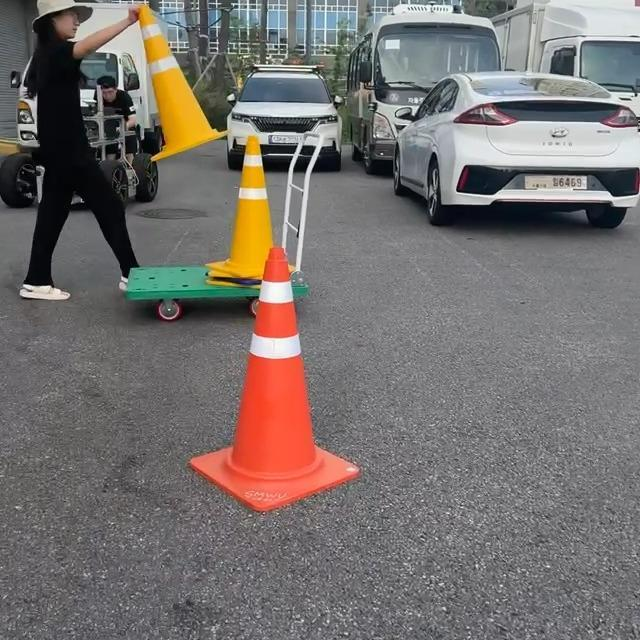fallen_object: (209, 227, 373, 577), (122, 2, 268, 251)
